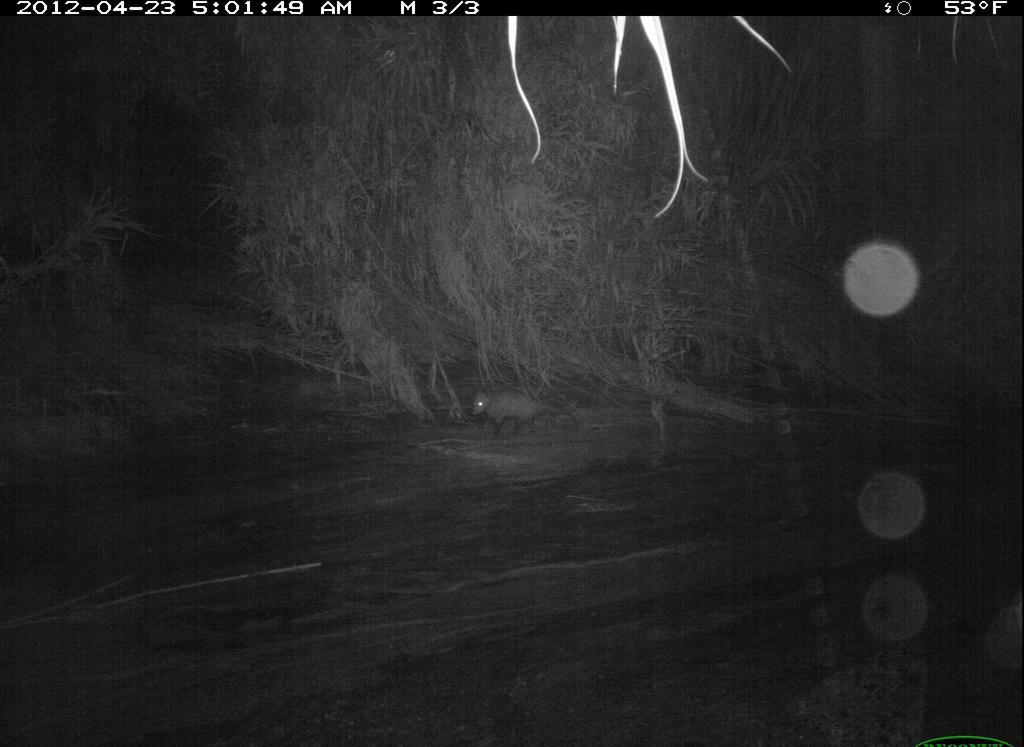opossum: (469, 383, 580, 436)
